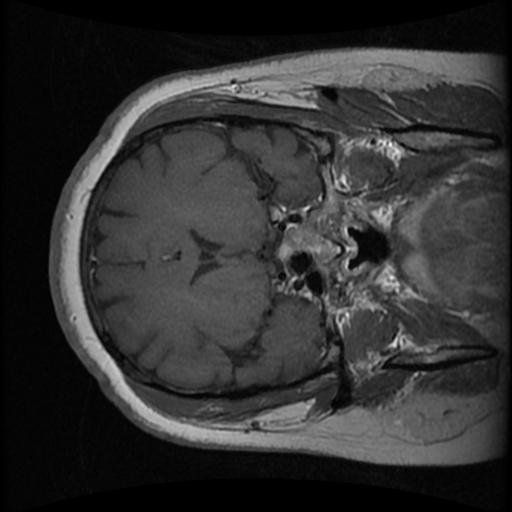pituitary tumour: (278, 222, 339, 262)
